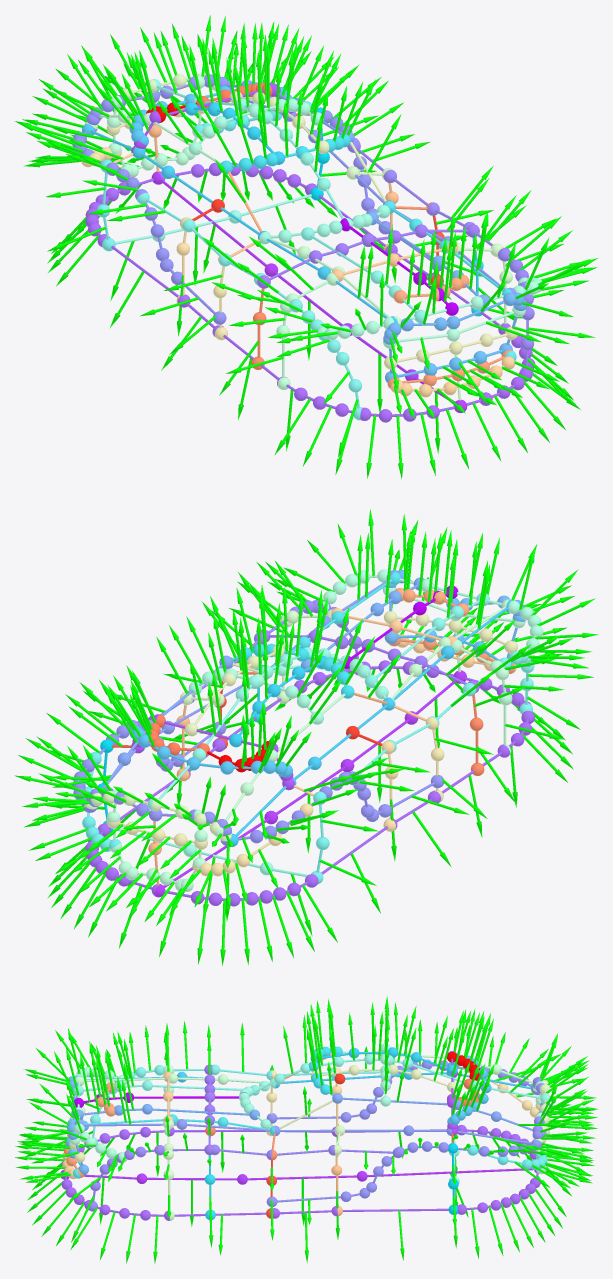
The model's file is t2f_car_97.gltf.
3 renders of one model, top to bottom at view 1: azimuth 30°, elevation 25°; view 2: azimuth 150°, elevation 25°; view 3: azimuth 270°, elevation 25°, orthographic. The views are drawn at different scales.
Bounding box in the file's own units: 0.5739 × 0.4444 × 1.09.
